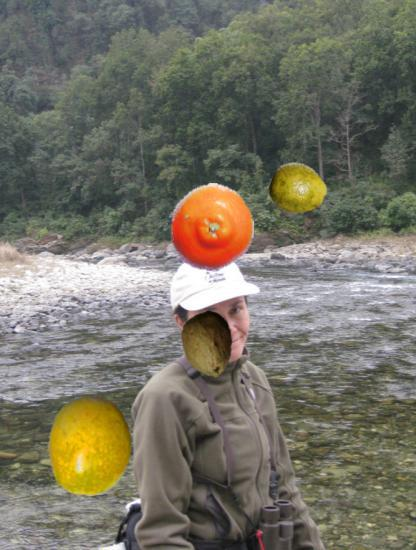Guava: (270, 160, 328, 218)
Maracuja: (39, 396, 139, 496)
Papaya: (174, 311, 241, 378)
Tangelo: (166, 183, 255, 272)
